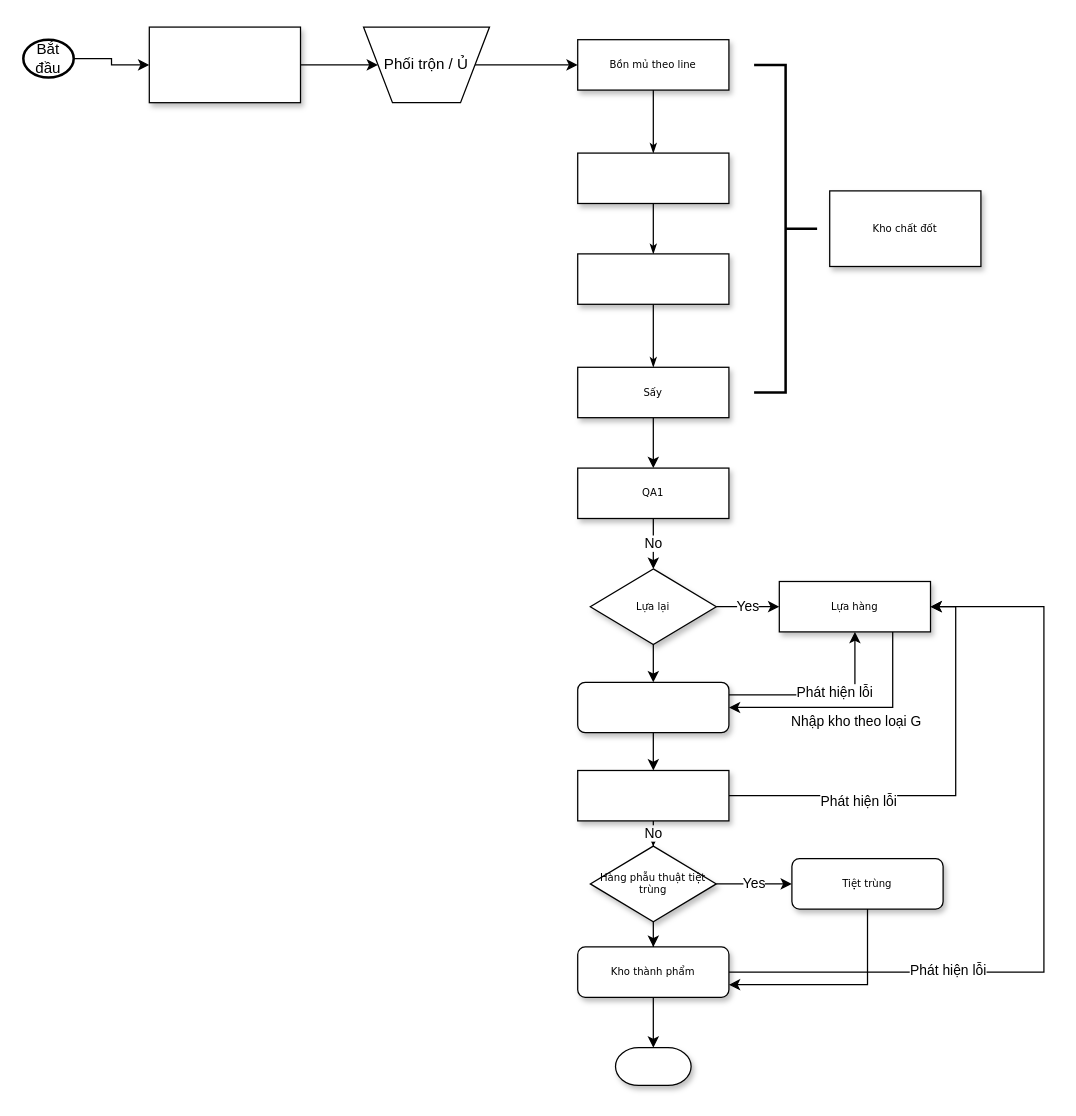
This 1076x1116 diagram has some shape labels left out. The shapes that lost their labels are listed below. From the top down, each one's centre as x and y in pixels, then its label:
At (225,66): "Kho nguyên liệu hóa chất".
At (653,179): "Tạo đông".
At (653,280): "Tháo găng".
At (653,709): "Kho trung chuyển (Kho bán thành phẩm)".
At (653,797): "Đóng gói".
At (654,1067): "Kết thúc".
